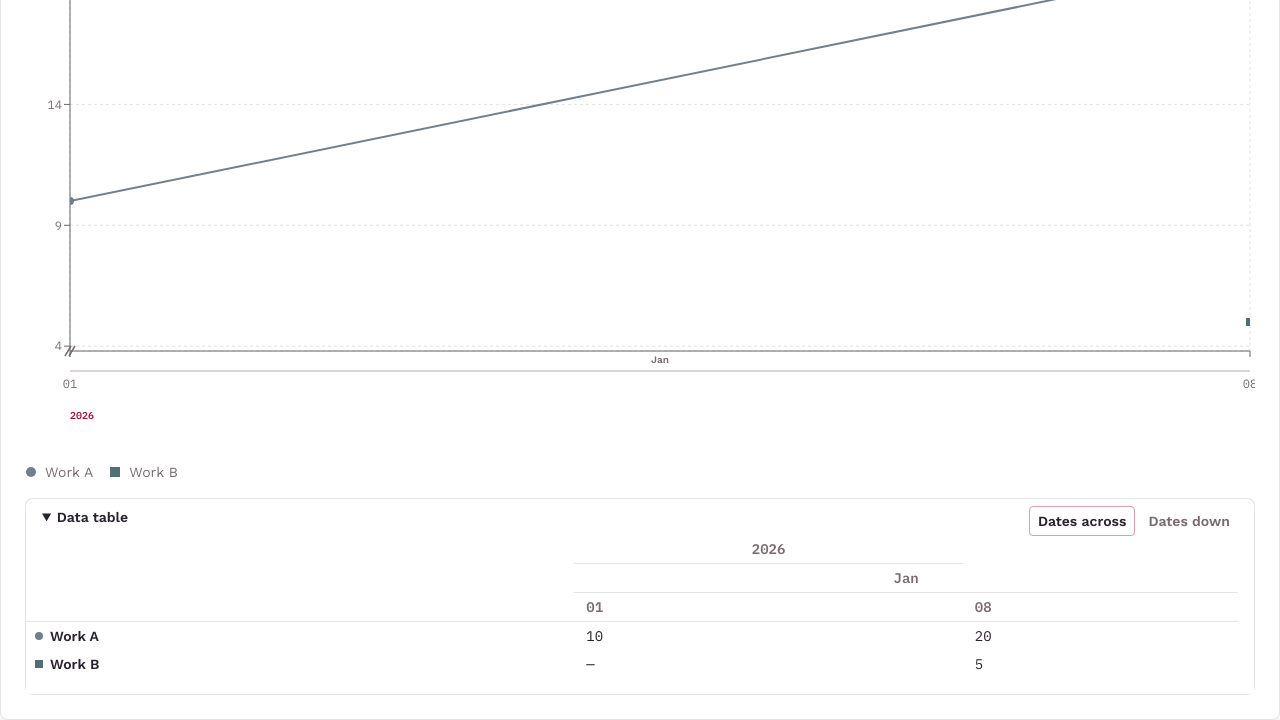
Test: MultiSeriesTrendChart: per-row delta independence across N series (C3a) › gives Work A a real delta at 2026-01-08 while Work B (only real point there) gets its own independent delta too
(page scrolled)
Click the button "01" at (595, 607), box [586,597,603,617]
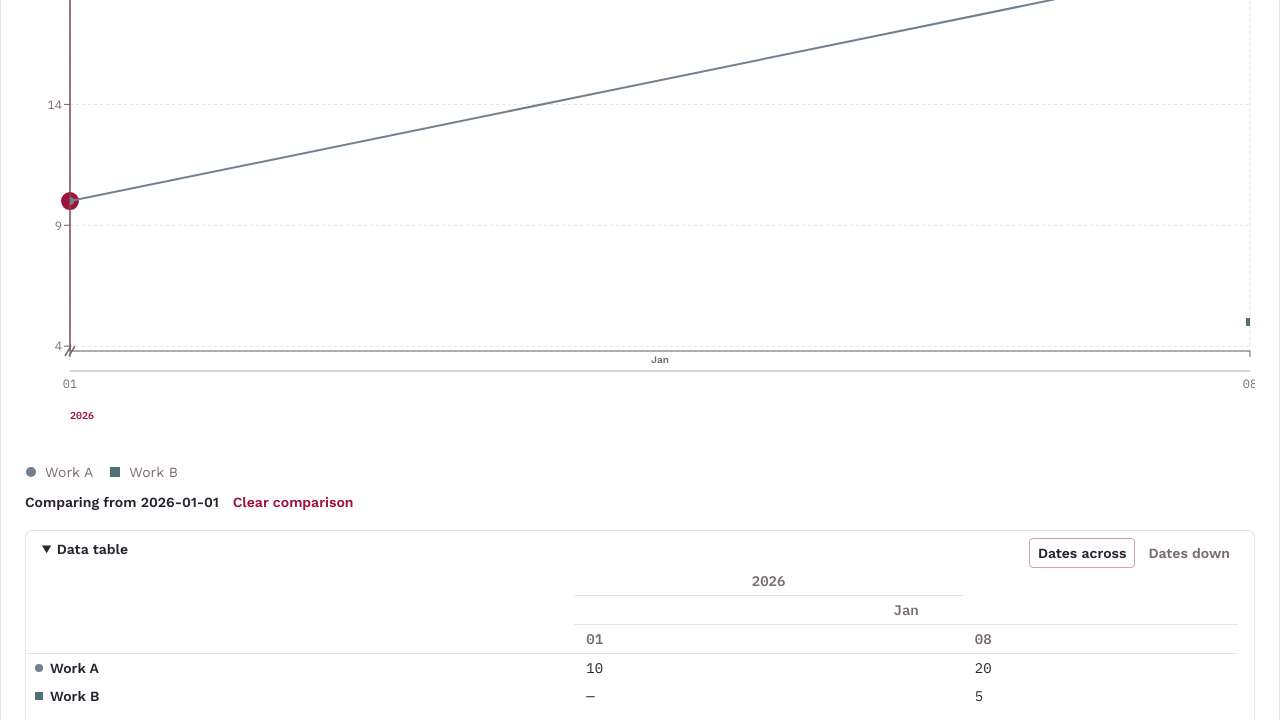
Hover over the column heading named "2026-01-08" at (1100, 639), box [963,624,1238,654]
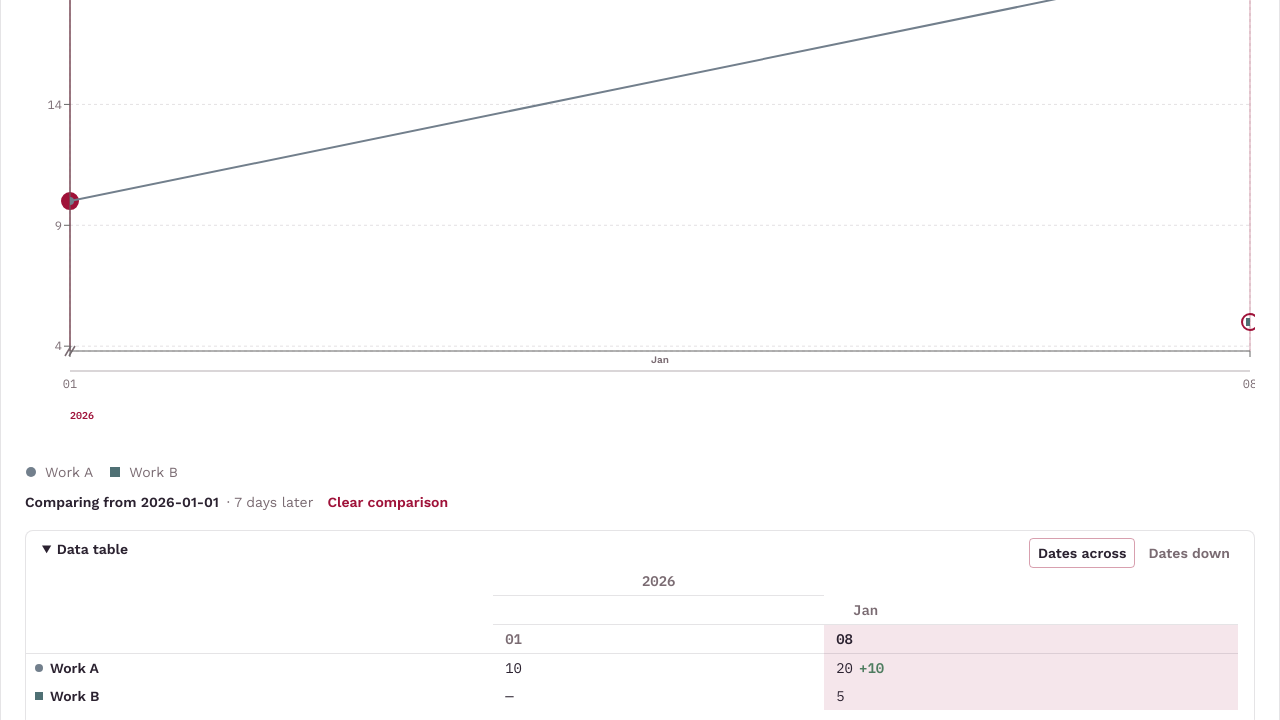
Check: the text with test id "delta-chip" reads "+10", box [859,659,884,677]
